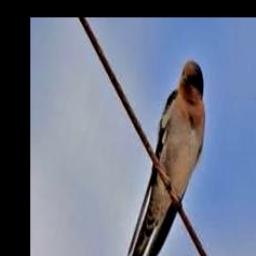Swallow: (122, 60, 206, 256)
